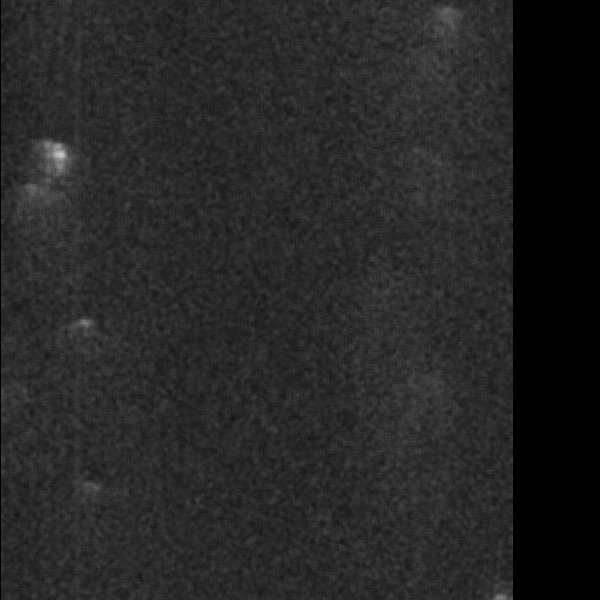spark: (212, 362, 260, 473), (204, 4, 249, 36)
